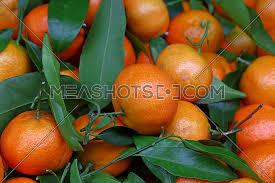orange: (107, 63, 178, 133), (1, 109, 74, 173), (70, 110, 134, 174), (156, 40, 213, 100)
